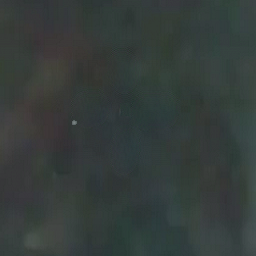Target: (70, 119, 78, 127)
